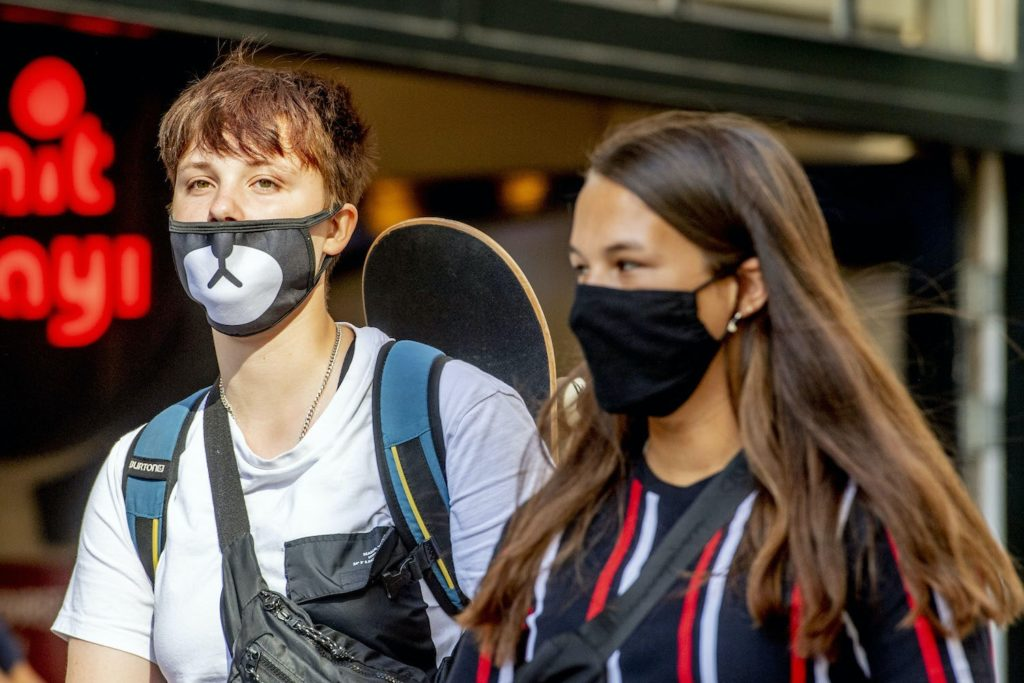with_incorrect_mask: (164, 105, 359, 325)
with_mask: (568, 165, 780, 420)
